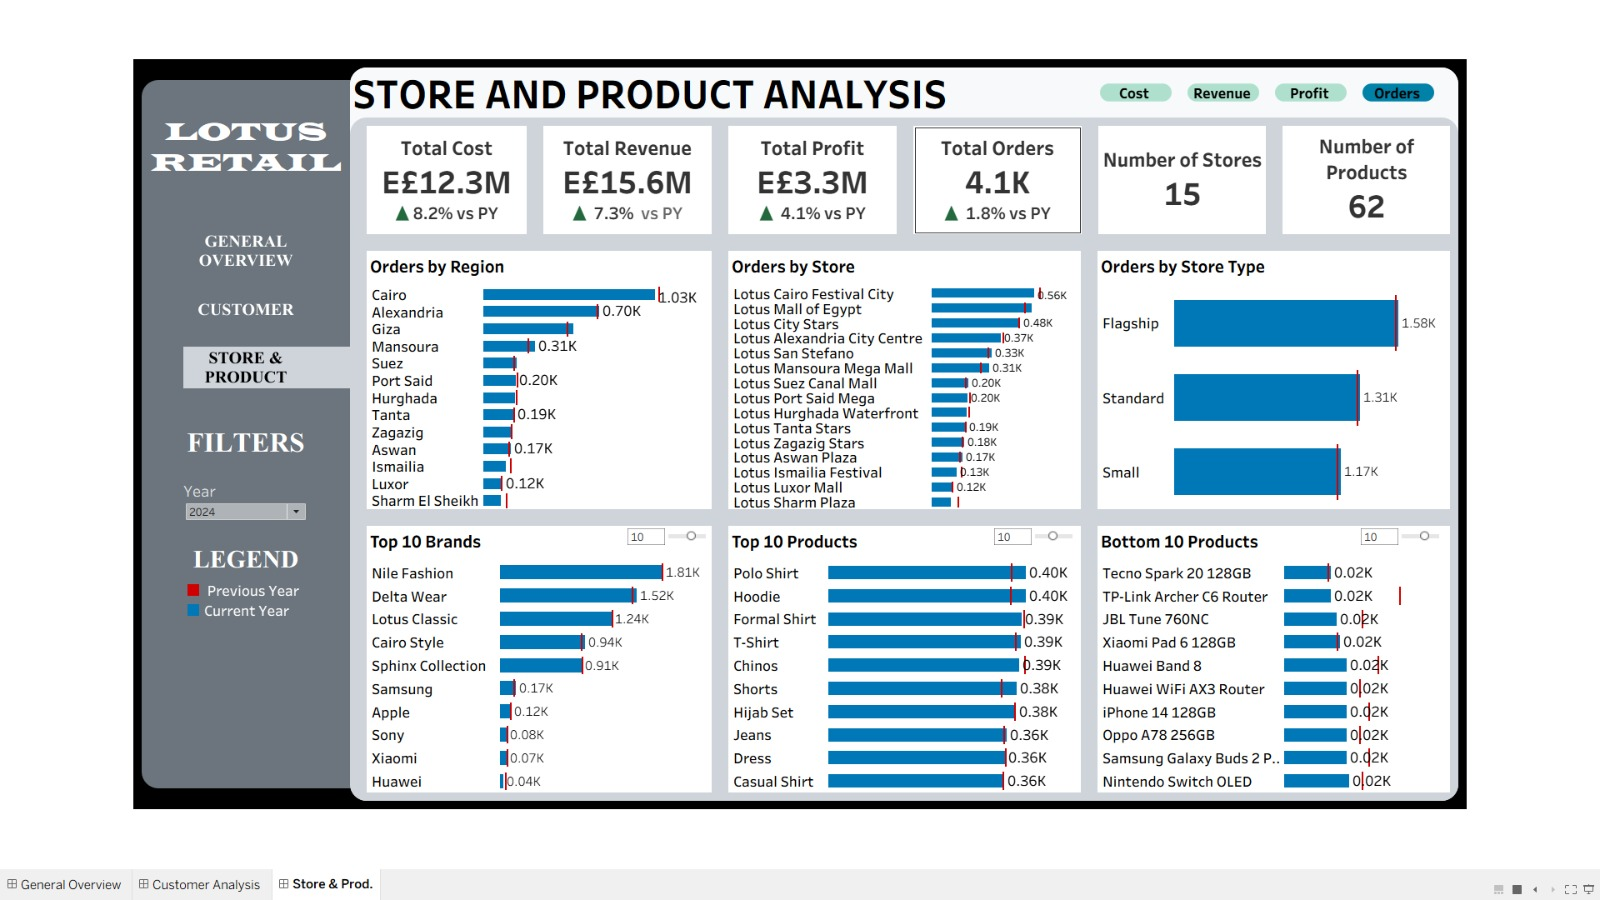

What the dashboard file says about the page in this screenshot:
{"tool":"tableau","page":{"name":"Store & Prod.","canvas":[1600,900],"ordinal":2},"visuals":[{"type":"text","box":[260,10,890,60]},{"type":"worksheet","title":"Buttons","mark":"Shape","cols":["Calculation_0874970443321350","Calculation_0874970443321350","Calculation_0874970443321350","Calculation_0874970443321350"],"box":[1150,10,420,60]},{"type":"blank","box":[10,25,250,10]},{"type":"text","box":[10,35,250,140]},{"type":"worksheet","title":"Cost","mark":"Automatic","box":[280,80,192,130]},{"type":"worksheet","title":"Rev.","mark":"Automatic","box":[492,80,202,130]},{"type":"worksheet","title":"Profit","mark":"Automatic","box":[714,80,202,130]},{"type":"worksheet","title":"Orders","mark":"Automatic","box":[936,80,202,130]},{"type":"worksheet","title":"No. of Store","mark":"Automatic","box":[1158,80,201,130]},{"type":"worksheet","title":"No. of Products","mark":"Automatic","box":[1379,80,201,130]},{"type":"blank","box":[10,175,250,30]},{"type":"dashboard-object","box":[60,205,150,50]},{"type":"worksheet","title":"Region Anal.","mark":"Automatic","rows":["city (dim_stores.csv)"],"cols":["Calculation_0373592491970560","Calculation_0373592493252610"],"box":[280,230,414,310]},{"type":"worksheet","title":"Store Anal.","mark":"Automatic","rows":["store_name"],"cols":["Calculation_0373592491970560","Calculation_0373592493252610"],"box":[714,230,423,310]},{"type":"worksheet","title":"Store Type","mark":"Automatic","rows":["store_type"],"cols":["Calculation_0373592491970560","Calculation_0373592493252610"],"box":[1157,230,423,310]},{"type":"blank","box":[10,255,250,20]},{"type":"dashboard-object","box":[60,275,150,50]},{"type":"blank","box":[10,325,250,20]},{"type":"dashboard-object","box":[60,345,200,50]},{"type":"blank","box":[10,395,250,50]},{"type":"text","box":[10,445,250,30]},{"type":"blank","box":[10,475,250,30]},{"type":"parameter","param":"[Parameters].[Parameter 1297182227197959]","box":[60,505,150,50]},{"type":"blank","box":[10,555,250,30]},{"type":"worksheet","title":"Top Brands","mark":"Automatic","rows":["brand"],"cols":["Calculation_0373592491970560","Calculation_0373592493252610"],"box":[280,560,414,320]},{"type":"parameter","param":"[Parameters].[Parameter 1225439447101457]","box":[590,560,100,35]},{"type":"worksheet","title":"Top Products","mark":"Automatic","rows":["product_name_raw"],"cols":["Calculation_0373592491970560","Calculation_0373592493252610"],"box":[714,560,423,320]},{"type":"parameter","param":"[Parameters].[Parameter 1225439438880779]","box":[1030,560,100,35]},{"type":"worksheet","title":"Bottom Products","mark":"Automatic","rows":["product_name_raw"],"cols":["Calculation_0373592491970560","Calculation_0373592493252610"],"box":[1157,560,423,320]},{"type":"parameter","param":"[Parameters].[Parameter 1225439448928274]","box":[1470,560,100,35]},{"type":"text","box":[10,585,250,30]},{"type":"blank","box":[10,615,250,10]},{"type":"legend","title":"Top Brands","param":"[federated.0mt75gr1jol0vg19zrq0202gwl9p].[:Measure Names]","box":[60,625,150,50]}]}

Visuals, with their boxes on the page's 1600x900 design canvas (x1, y1, x2, y2). These are canvas units, not pixel positions in the 1600x900 screenshot, which may show the page scaled, cropped or inside an application window:
text: [260,10,1150,70]
"Buttons" worksheet (Shape marks): [1150,10,1570,70]
blank: [10,25,260,35]
text: [10,35,260,175]
"Cost" worksheet: [280,80,472,210]
"Rev." worksheet: [492,80,694,210]
"Profit" worksheet: [714,80,916,210]
"Orders" worksheet: [936,80,1138,210]
"No. of Store" worksheet: [1158,80,1359,210]
"No. of Products" worksheet: [1379,80,1580,210]
blank: [10,175,260,205]
dashboard-object: [60,205,210,255]
"Region Anal." worksheet: [280,230,694,540]
"Store Anal." worksheet: [714,230,1137,540]
"Store Type" worksheet: [1157,230,1580,540]
blank: [10,255,260,275]
dashboard-object: [60,275,210,325]
blank: [10,325,260,345]
dashboard-object: [60,345,260,395]
blank: [10,395,260,445]
text: [10,445,260,475]
blank: [10,475,260,505]
parameter: [60,505,210,555]
blank: [10,555,260,585]
"Top Brands" worksheet: [280,560,694,880]
parameter: [590,560,690,595]
"Top Products" worksheet: [714,560,1137,880]
parameter: [1030,560,1130,595]
"Bottom Products" worksheet: [1157,560,1580,880]
parameter: [1470,560,1570,595]
text: [10,585,260,615]
blank: [10,615,260,625]
"Top Brands" legend: [60,625,210,675]
